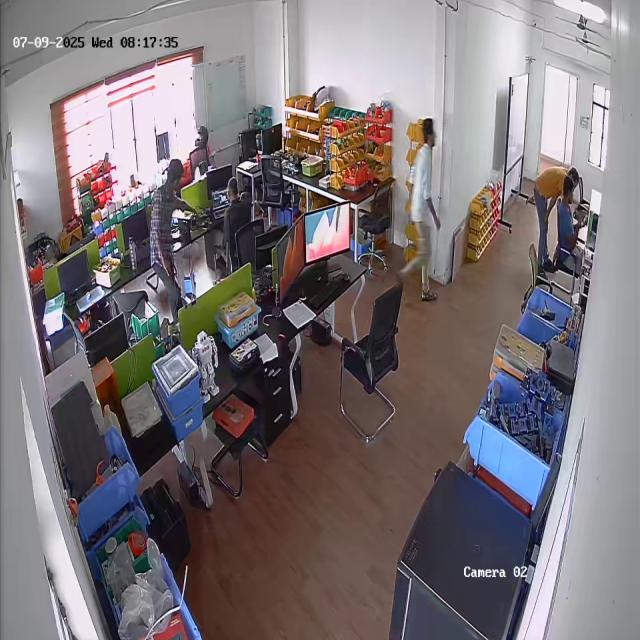person: (401, 114, 443, 309), (145, 156, 190, 288), (211, 177, 254, 259), (561, 178, 585, 261)
